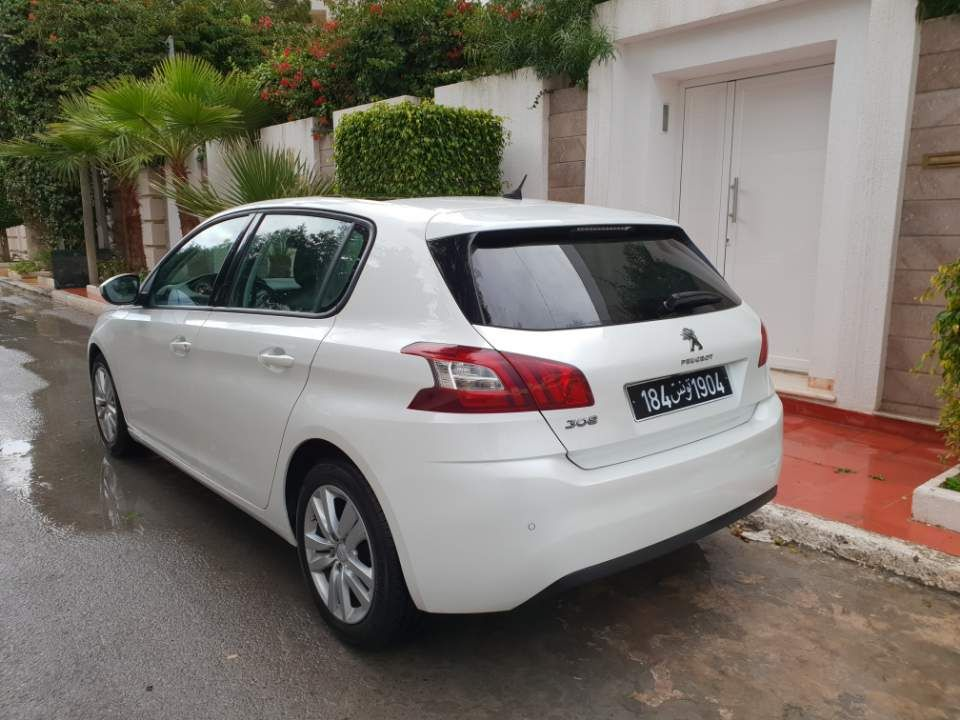LP: (625, 366, 735, 420)
